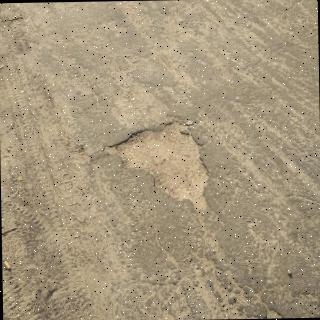pothole: (106, 123, 209, 217)
